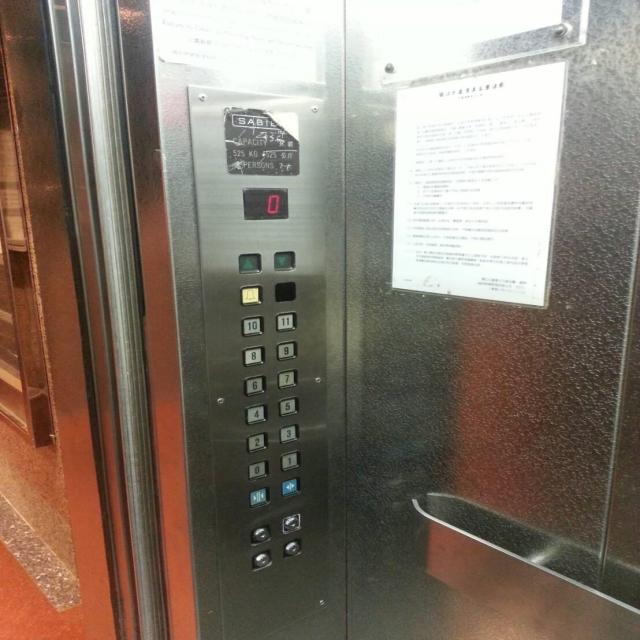0: (245, 459, 270, 480)
1: (278, 450, 301, 470)
10: (238, 314, 265, 336)
11: (273, 310, 297, 332)
2: (244, 431, 269, 452)
3: (277, 424, 299, 444)
4: (242, 403, 267, 425)
5: (276, 394, 299, 417)
6: (241, 373, 266, 396)
7: (274, 367, 298, 390)
8: (240, 344, 266, 368)
9: (273, 339, 298, 362)
alarm: (238, 284, 265, 306)
close: (246, 486, 270, 506)
down: (272, 250, 296, 272)
empty: (271, 281, 297, 302)
keyhole: (249, 525, 271, 543), (280, 513, 301, 531), (251, 550, 272, 568), (281, 539, 302, 556)
led: (239, 187, 291, 220)
open: (278, 477, 300, 497)
up: (235, 253, 263, 274)
